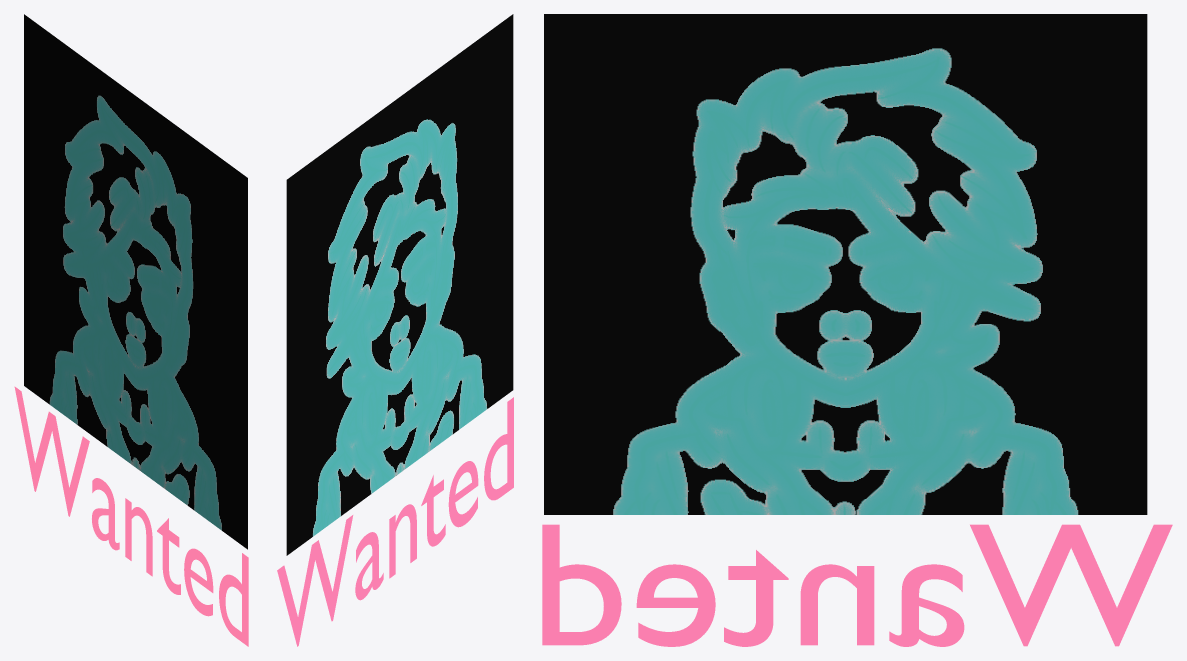
File: Wanted.fbx
The picture shows the model from 3 angles, left to right: view 1: azimuth 30°, elevation 25°; view 2: azimuth 150°, elevation 25°; view 3: azimuth 270°, elevation 25°; orthographic projection. The views are drawn at different scales.
Visible parts, largest first — view 1: Wanted; view 2: Wanted; view 3: Wanted.
Part boxes in pixels (<box>): Wanted: <box>14,14,248,646</box>; Wanted: <box>277,14,513,646</box>; Wanted: <box>542,14,1172,646</box>.
Size of the model in its own units: 5e-05 by 927 by 837.
